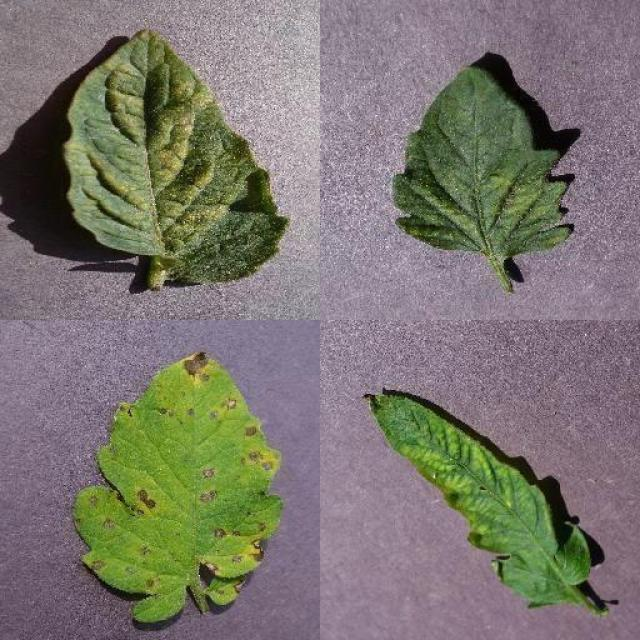Septoria: (71, 352, 285, 626)
